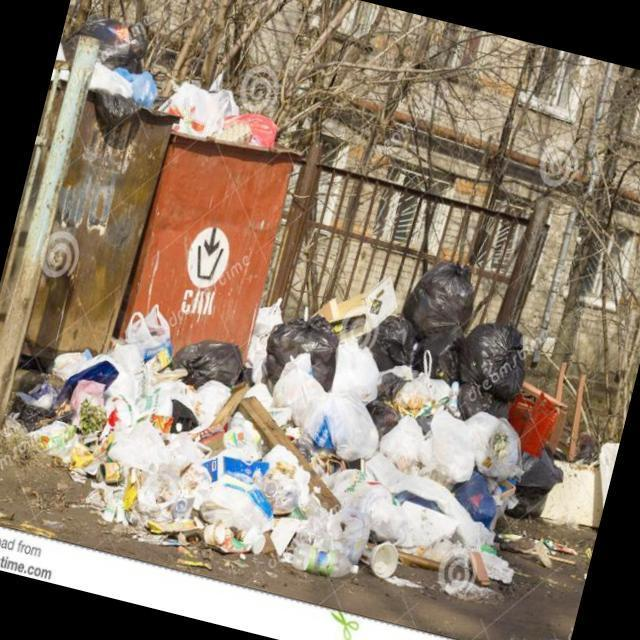garbage: (0, 275, 570, 638), (364, 241, 553, 399), (150, 60, 300, 172), (62, 7, 174, 139), (240, 294, 350, 394)
